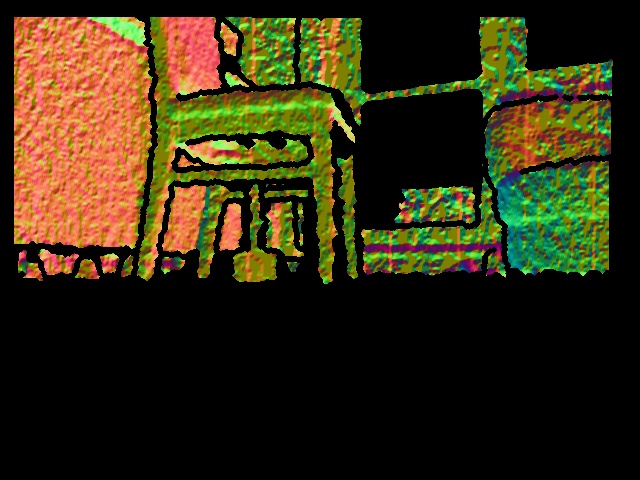station: (230, 180, 281, 284)
